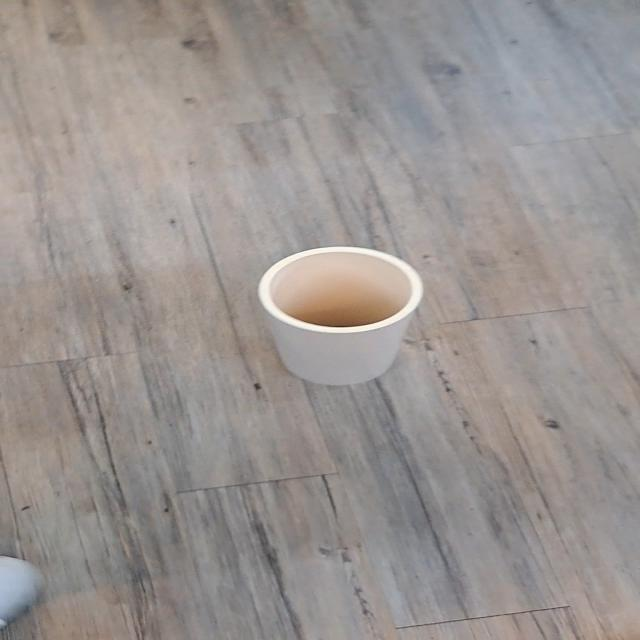CORAL: (217, 232, 445, 408)
